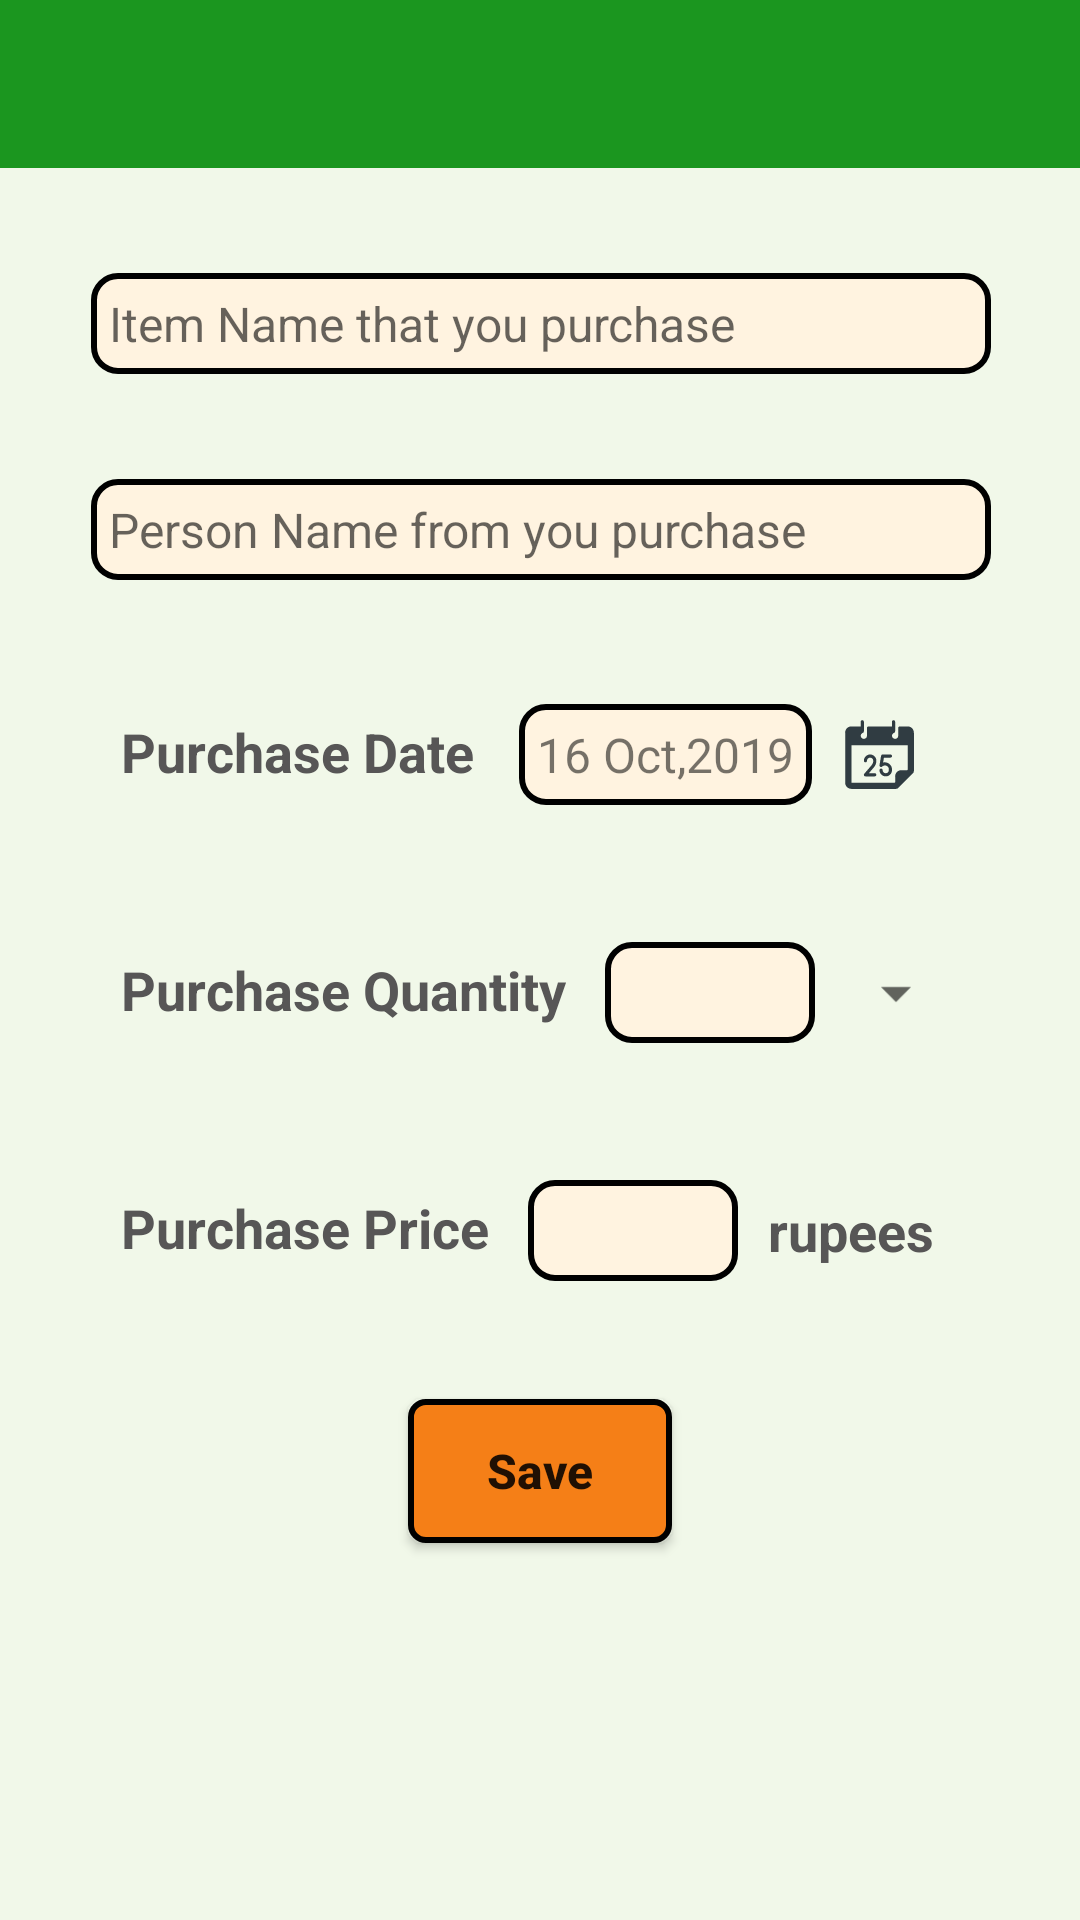

Screen size 1080 × 1920. Icon name, then its center in pixels as (x,y):
calendar: (879,754)
